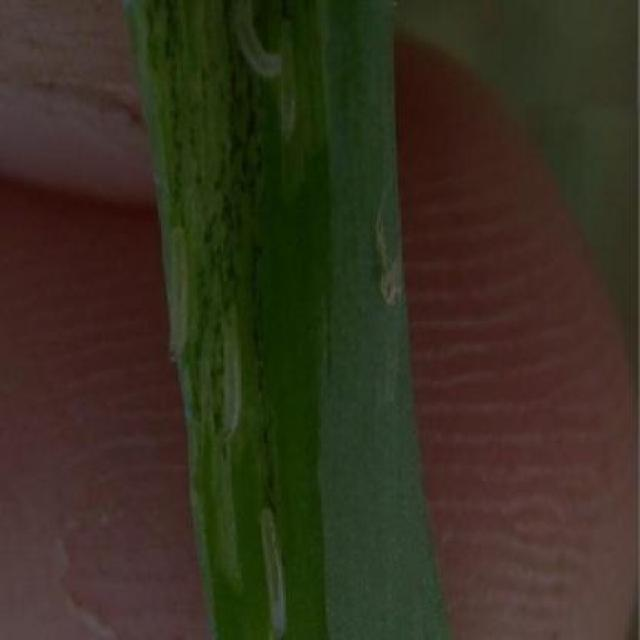whorl-maggot: (250, 494, 293, 640), (217, 295, 246, 450), (165, 218, 193, 372), (234, 0, 283, 88), (276, 15, 298, 146)
